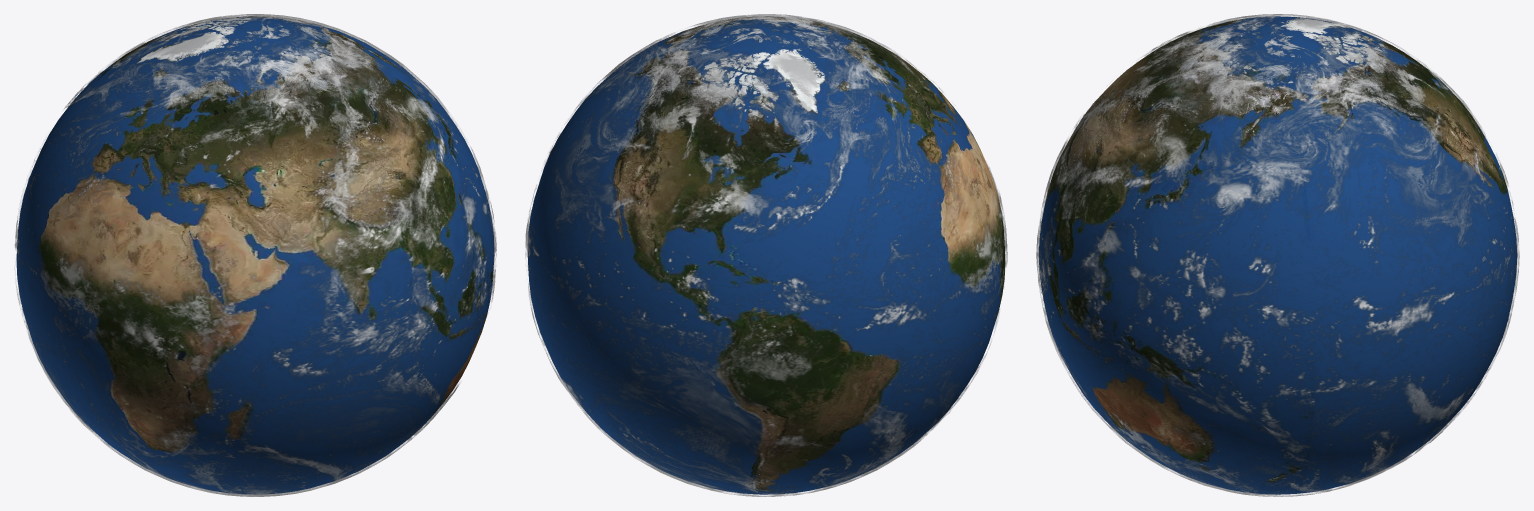
File: earth_comp.glb
3 views of the same model, side by side, from view 1: azimuth 30°, elevation 25°; view 2: azimuth 150°, elevation 25°; view 3: azimuth 270°, elevation 25° (orthographic).
Parts seen in each view (by area): view 1: earth_GEO_n3d, clouds_GEO_n3d; view 2: earth_GEO_n3d, clouds_GEO_n3d; view 3: earth_GEO_n3d, clouds_GEO_n3d.
Part boxes in pixels (x1,y1,x2,y2): earth_GEO_n3d: [16, 16, 494, 494]; clouds_GEO_n3d: [14, 14, 496, 496]; earth_GEO_n3d: [527, 16, 1005, 494]; clouds_GEO_n3d: [525, 14, 1007, 496]; earth_GEO_n3d: [1038, 16, 1517, 494]; clouds_GEO_n3d: [1036, 14, 1519, 496].
Size of the model in its own units: 0.1107 by 0.1107 by 0.1107.
2 materials, 2 textured.
